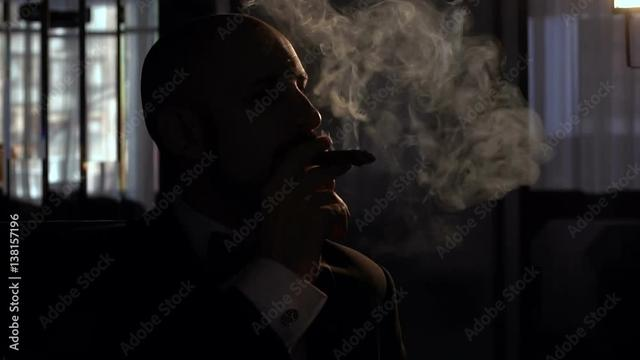Cigar: (311, 147, 383, 170)
